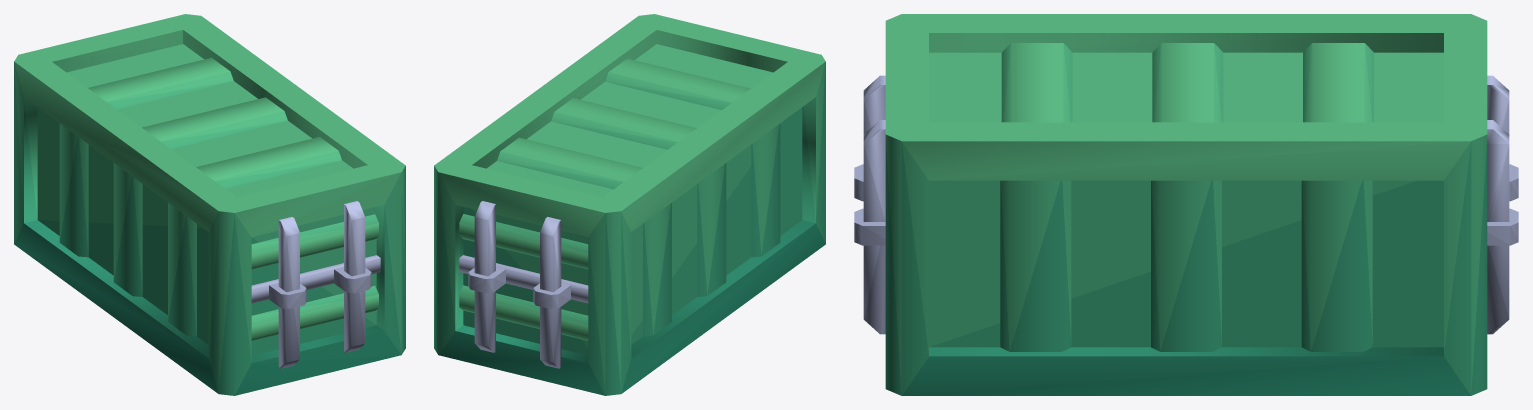
Rendered from shipping-container-c.obj.
The picture shows the model from 3 angles, left to right: view 1: azimuth 30°, elevation 25°; view 2: azimuth 150°, elevation 25°; view 3: azimuth 270°, elevation 25°; orthographic projection. The views are drawn at different scales.
Bounding box in the file's own units: 0.3726 × 0.3481 × 0.8226.
